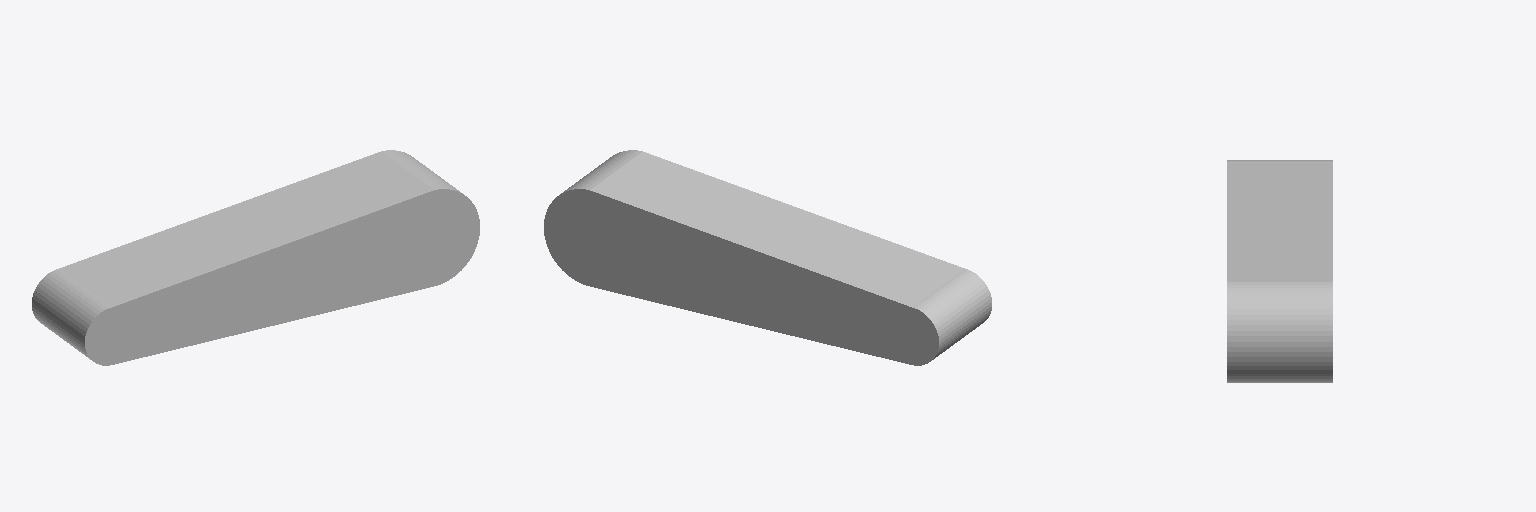
File: flipper R.obj
3 renders of one model, left to right at view 1: azimuth 30°, elevation 25°; view 2: azimuth 150°, elevation 25°; view 3: azimuth 270°, elevation 25°, orthographic.
Parts seen in each view (by area): view 1: Body1; view 2: Body1; view 3: Body1.
Boxes of the visible parts, x1,y1,x2,y2 form: Body1: [32, 150, 479, 365]; Body1: [544, 150, 991, 365]; Body1: [1227, 160, 1332, 382].
Bounding box in the file's own units: 21.5 × 5 × 5.